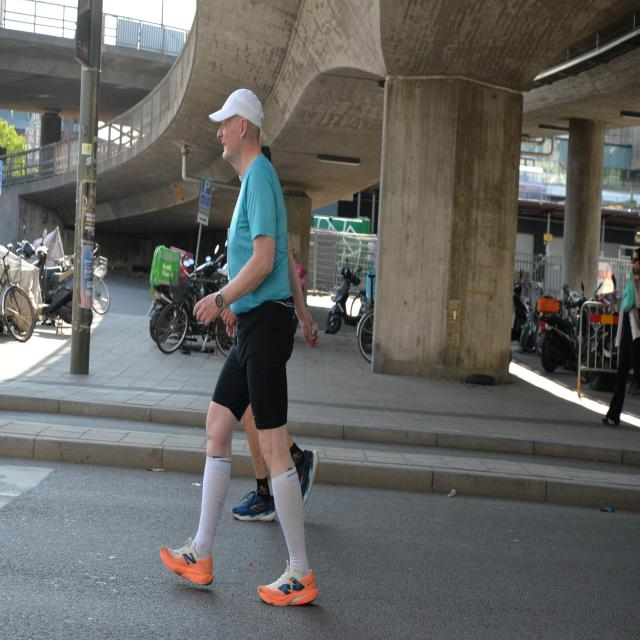runner-detect: (154, 61, 325, 611)
